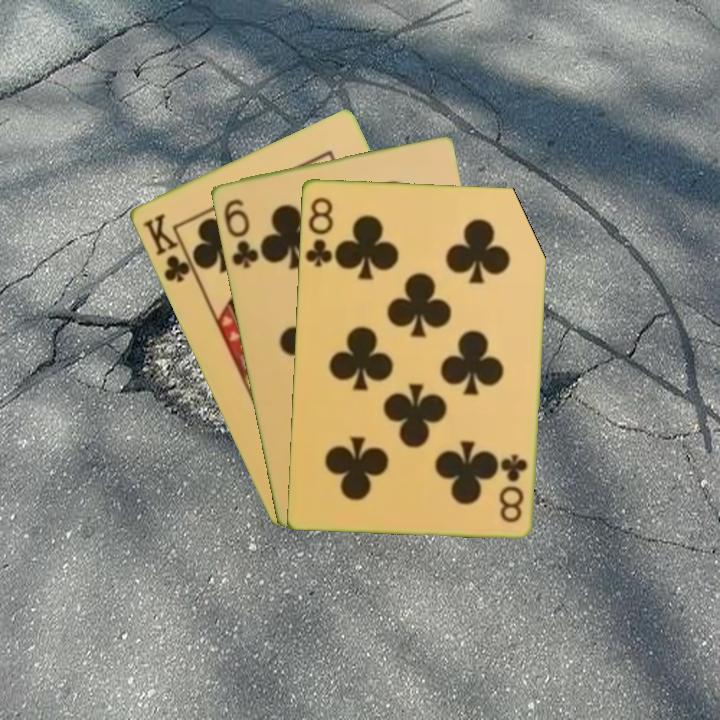6c: (219, 195, 261, 271)
8c: (301, 193, 336, 269), (496, 450, 530, 525)
Kc: (138, 209, 199, 286)
